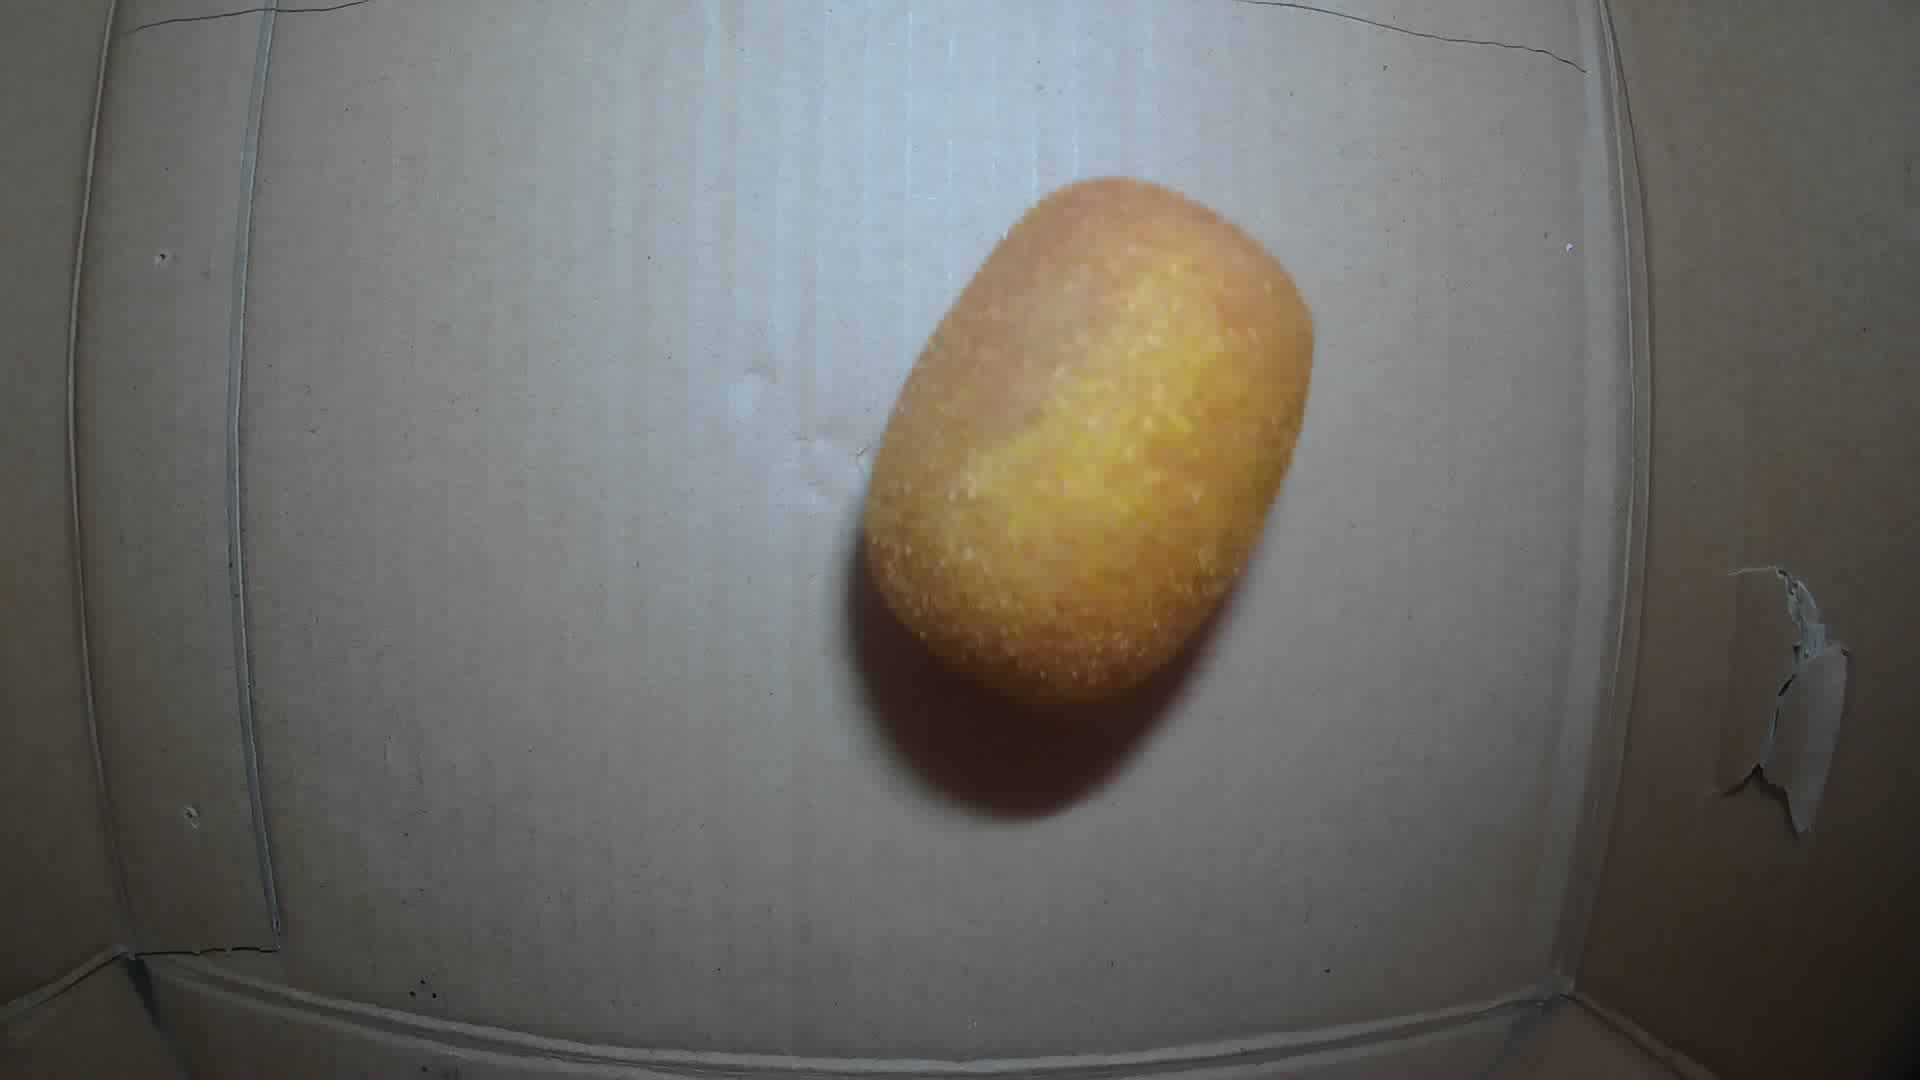kiwi: (866, 170, 1313, 703)
